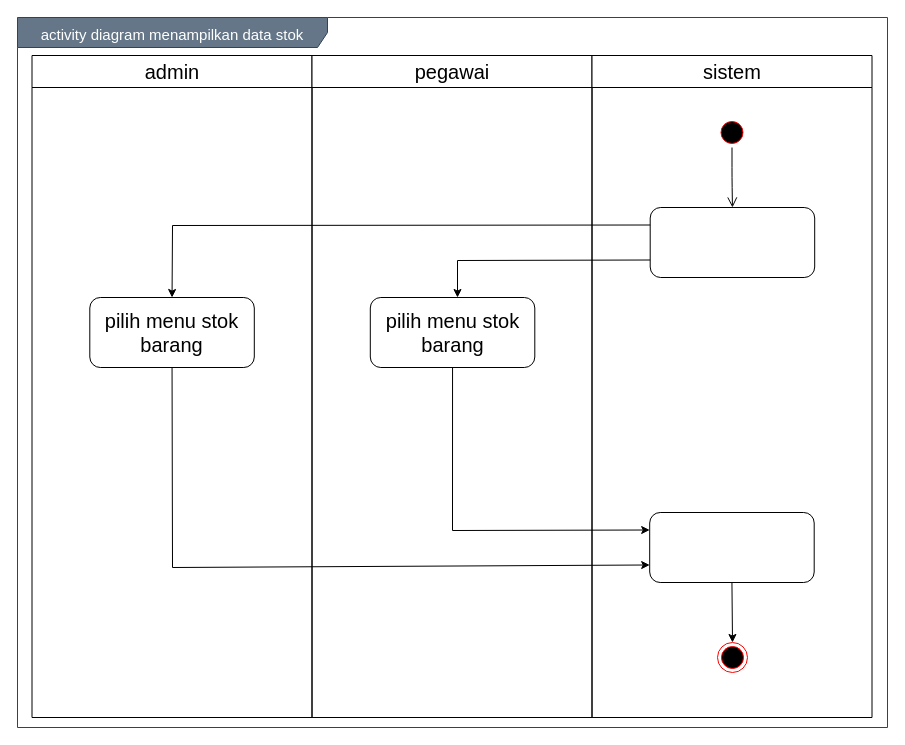
The diagram is 905 pixels wide and 745 high, and some of its shapes have lost their labels. The shapes that lost their labels are listed below. From the top down, each one's centre as x and y in pixels, then its label:
At pixel 732 242: "menampilkan dashboard sesuai rolenya".
At pixel 731 547: "menampilkan stok barang".
